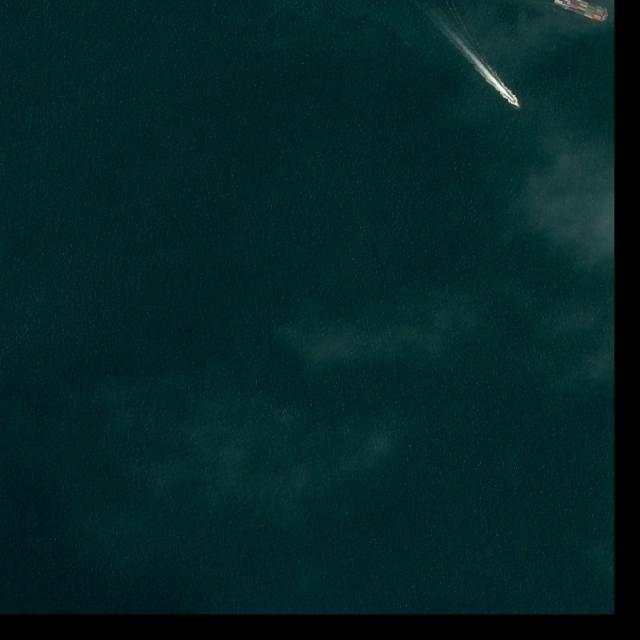ship: (553, 0, 613, 25), (512, 99, 521, 108)
